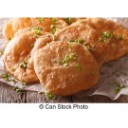poori: (37, 42, 99, 92), (4, 28, 54, 81), (54, 25, 108, 70), (74, 17, 128, 59)
